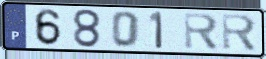0: (109, 9, 142, 49)
1: (148, 11, 165, 51)
6: (33, 7, 64, 47)
8: (71, 8, 102, 49)
R: (182, 11, 221, 53), (220, 13, 259, 54)
